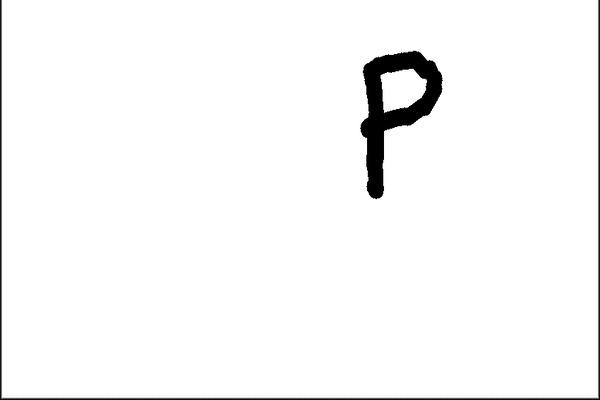P: (351, 45, 451, 207)
